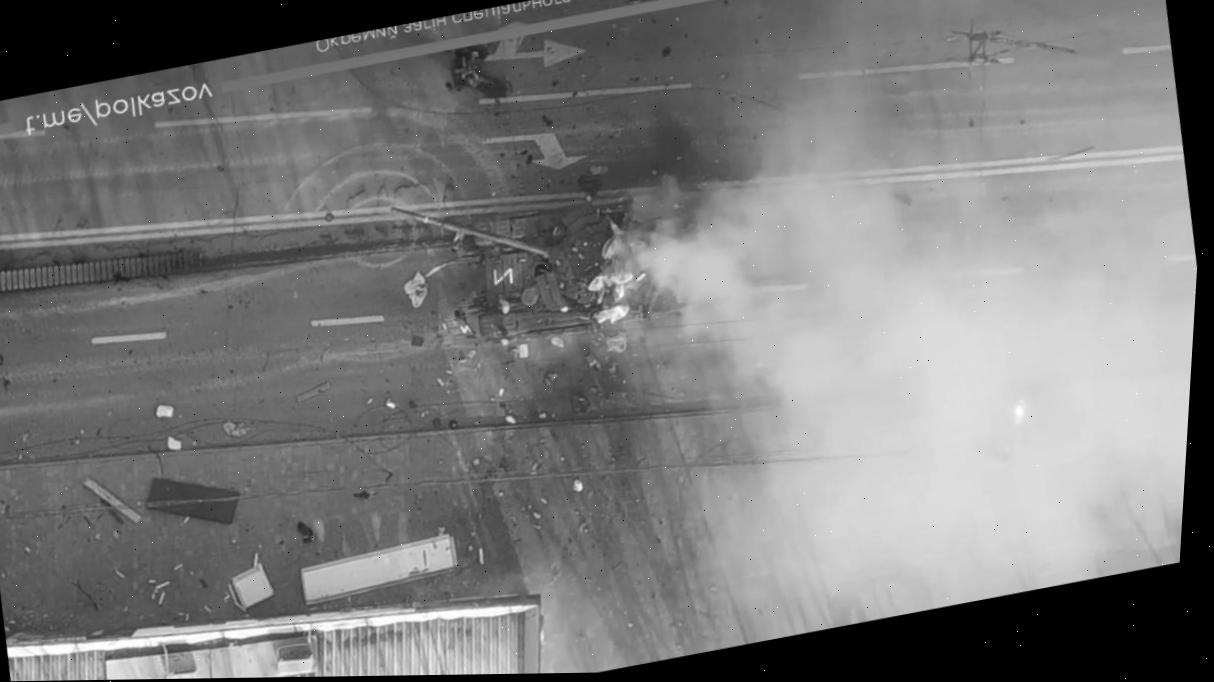tank: (380, 147, 734, 369)
